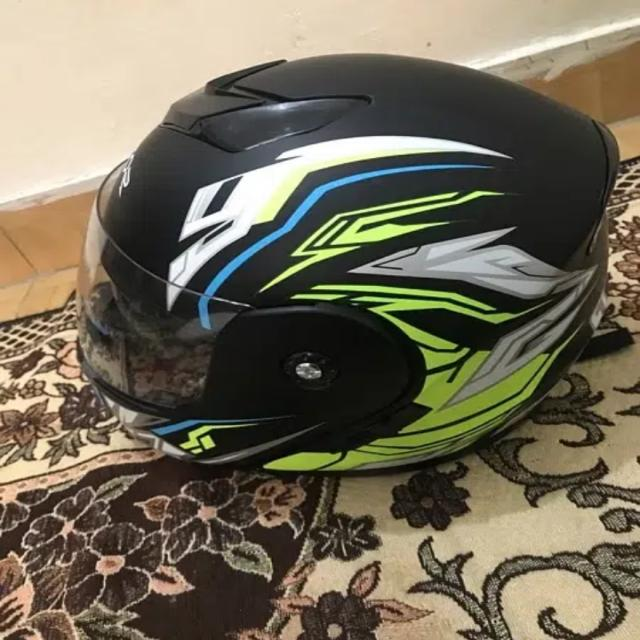Helmet: (93, 26, 640, 510)
